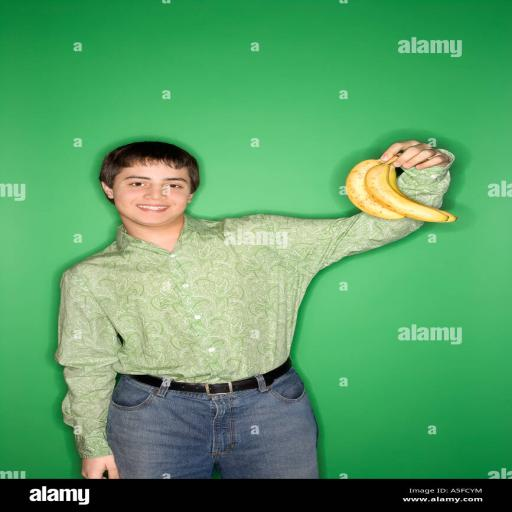banana: (365, 163, 457, 222), (346, 160, 405, 219), (390, 166, 406, 197)
